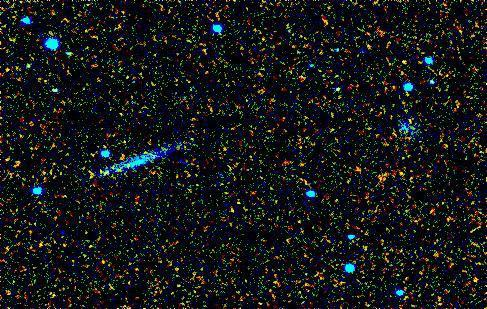star: (386, 45, 416, 75)
